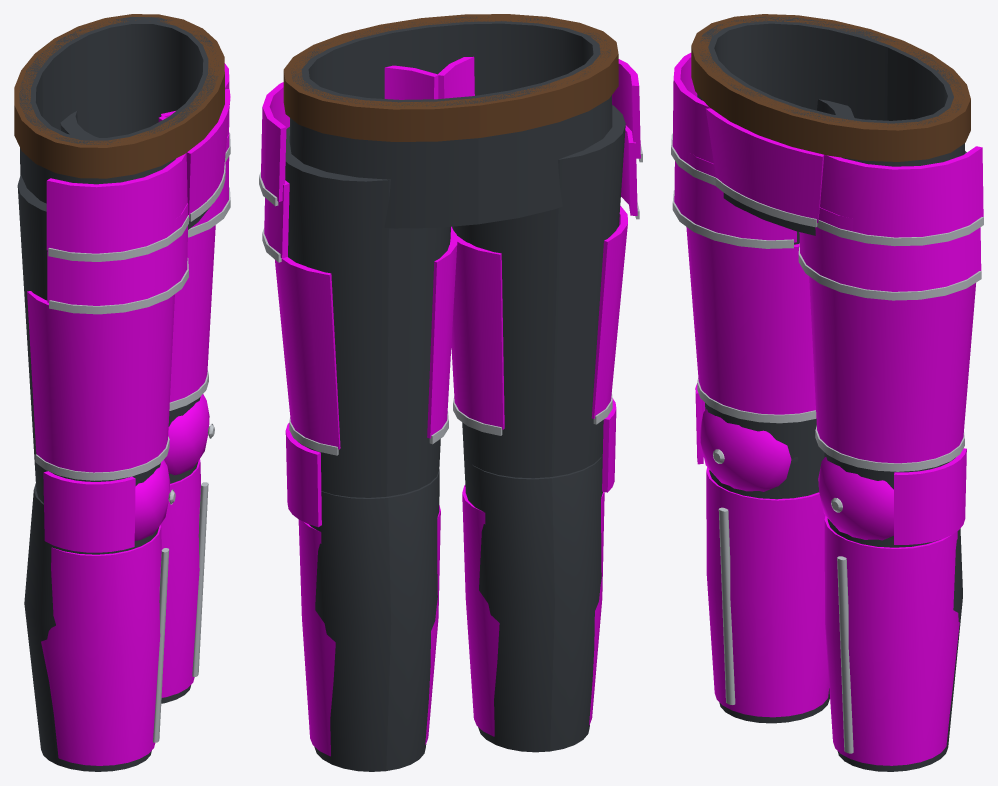
Rendered from objet_armure2_jambieres.glb.
3 views of the same model, side by side, from view 1: azimuth 30°, elevation 25°; view 2: azimuth 150°, elevation 25°; view 3: azimuth 270°, elevation 25° (orthographic). The views are drawn at different scales.
Visible parts, largest first — view 1: cuisse_d__jambieres_teinte.010, jambe_d__jambieres_teinte.010, bassin__jambieres_teinte_sombre.008, bassin__jambieres_sac_cuir.004, jambe_g__jambieres_teinte.010, cuisse_g__jambieres_teinte.010, jambe_d__jambieres_teinte_sombre.008, cuisse_d__jambieres_teinte_sombre.008, cuisse_d__jambieres_rivet.002, bassin__jambieres_teinte.010, jambe_d__jambieres_rivet.006, jambe_g__jambieres_rivet.006 (+3 smaller); view 2: bassin__jambieres_teinte_sombre.008, cuisse_g__jambieres_teinte_sombre.008, cuisse_d__jambieres_teinte_sombre.008, jambe_d__jambieres_teinte_sombre.008, jambe_g__jambieres_teinte_sombre.008, cuisse_g__jambieres_teinte.010, bassin__jambieres_sac_cuir.004, cuisse_d__jambieres_teinte.010, jambe_g__jambieres_teinte.010, jambe_d__jambieres_teinte.010, cuisse_g__jambieres_rivet.002, cuisse_d__jambieres_rivet.002; view 3: cuisse_g__jambieres_teinte.010, jambe_g__jambieres_teinte.010, jambe_d__jambieres_teinte.010, cuisse_d__jambieres_teinte.010, bassin__jambieres_teinte_sombre.008, bassin__jambieres_sac_cuir.004, bassin__jambieres_teinte.010, cuisse_g__jambieres_rivet.002, cuisse_d__jambieres_teinte_sombre.008, cuisse_d__jambieres_rivet.002, jambe_g__jambieres_teinte_sombre.008, jambe_d__jambieres_rivet.006 (+4 smaller).
Part boxes in pixels (box(x1,y1,x2,y2)): cuisse_d__jambieres_teinte.010: box(27, 116, 188, 472); jambe_d__jambieres_teinte.010: box(41, 460, 170, 765); bassin__jambieres_teinte_sombre.008: box(19, 16, 218, 229); bassin__jambieres_sac_cuir.004: box(14, 14, 224, 178); jambe_g__jambieres_teinte.010: box(160, 394, 209, 697); cuisse_g__jambieres_teinte.010: box(161, 63, 229, 402); jambe_d__jambieres_teinte_sombre.008: box(24, 483, 158, 771); cuisse_d__jambieres_teinte_sombre.008: box(17, 175, 160, 554); cuisse_d__jambieres_rivet.002: box(35, 215, 188, 480); bassin__jambieres_teinte.010: box(186, 88, 230, 217); jambe_d__jambieres_rivet.006: box(153, 489, 175, 742); jambe_g__jambieres_rivet.006: box(192, 423, 214, 676); bassin__jambieres_teinte_sombre.008: box(289, 16, 612, 228); cuisse_g__jambieres_teinte_sombre.008: box(285, 127, 450, 497); cuisse_d__jambieres_teinte_sombre.008: box(452, 105, 625, 491); jambe_d__jambieres_teinte_sombre.008: box(465, 453, 602, 752); jambe_g__jambieres_teinte_sombre.008: box(309, 469, 439, 771); cuisse_g__jambieres_teinte.010: box(261, 65, 457, 449); bassin__jambieres_sac_cuir.004: box(283, 14, 618, 141); cuisse_d__jambieres_teinte.010: box(437, 56, 640, 429); jambe_g__jambieres_teinte.010: box(285, 423, 440, 756); jambe_d__jambieres_teinte.010: box(462, 398, 616, 736); cuisse_g__jambieres_rivet.002: box(259, 172, 448, 455); cuisse_d__jambieres_rivet.002: box(453, 144, 642, 435); cuisse_g__jambieres_teinte.010: box(799, 146, 983, 463); jambe_g__jambieres_teinte.010: box(818, 448, 966, 765); jambe_d__jambieres_teinte.010: box(695, 383, 829, 717); cuisse_d__jambieres_teinte.010: box(672, 53, 815, 414); bassin__jambieres_teinte_sombre.008: box(697, 16, 964, 235); bassin__jambieres_sac_cuir.004: box(691, 14, 970, 161); bassin__jambieres_teinte.010: box(706, 108, 824, 222); cuisse_g__jambieres_rivet.002: box(798, 217, 983, 471); cuisse_d__jambieres_teinte_sombre.008: box(705, 99, 854, 498); cuisse_d__jambieres_rivet.002: box(671, 133, 816, 423); jambe_g__jambieres_teinte_sombre.008: box(827, 518, 962, 771); jambe_d__jambieres_rivet.006: box(713, 449, 735, 704).
Size of the model in its own units: 0.133 by 0.3113 by 0.1351.
